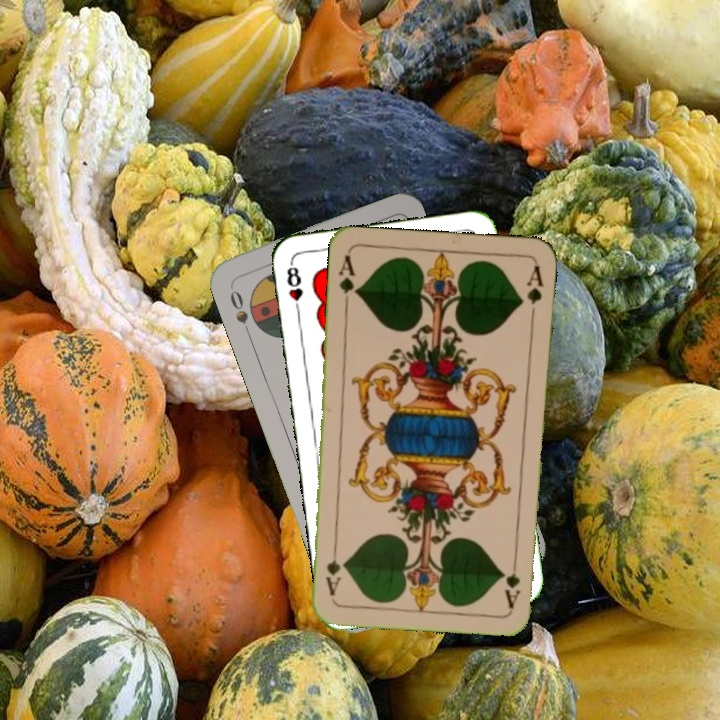GA: (334, 251, 361, 310), (502, 551, 523, 610)
H8: (282, 258, 305, 317)
SO: (225, 280, 253, 338)
